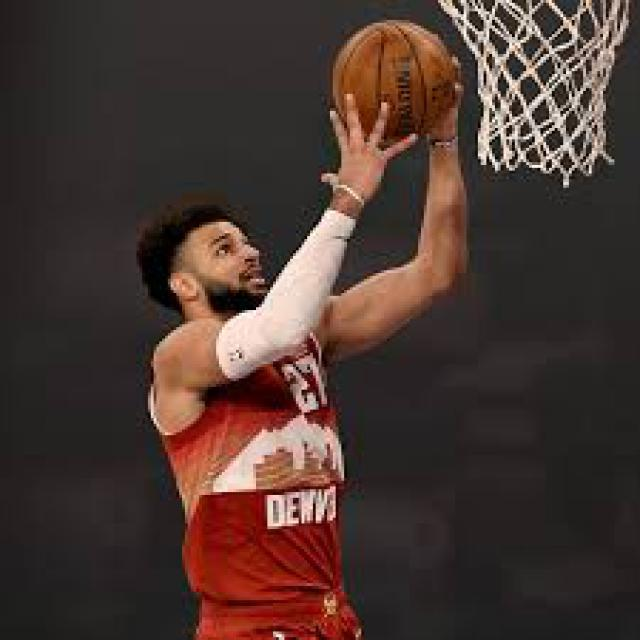basketball: (330, 19, 452, 142)
